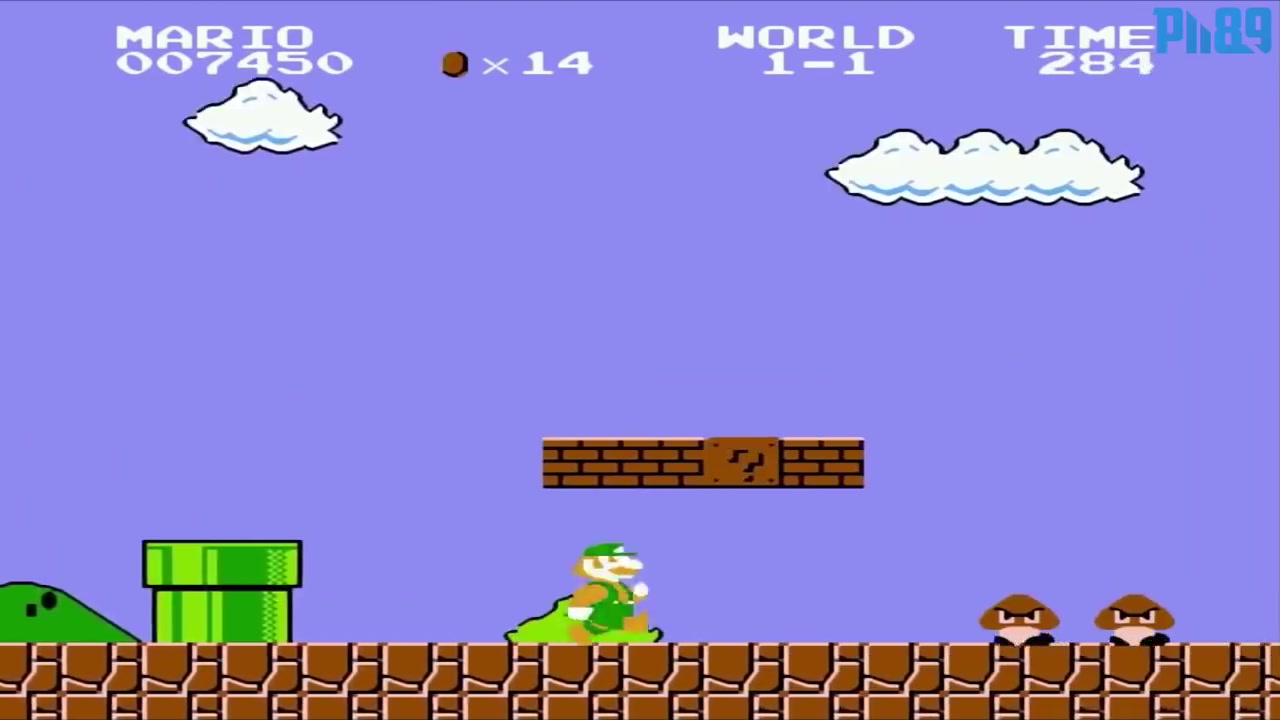mario: (568, 545, 660, 645)
